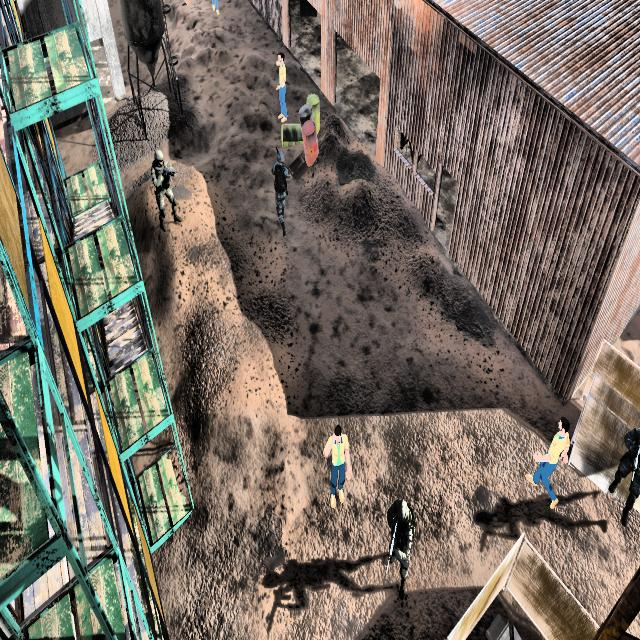bad: (372, 490, 422, 599), (145, 141, 184, 248), (259, 138, 297, 243), (612, 409, 640, 536)
good: (524, 398, 576, 527), (317, 413, 355, 519), (262, 46, 296, 122)
